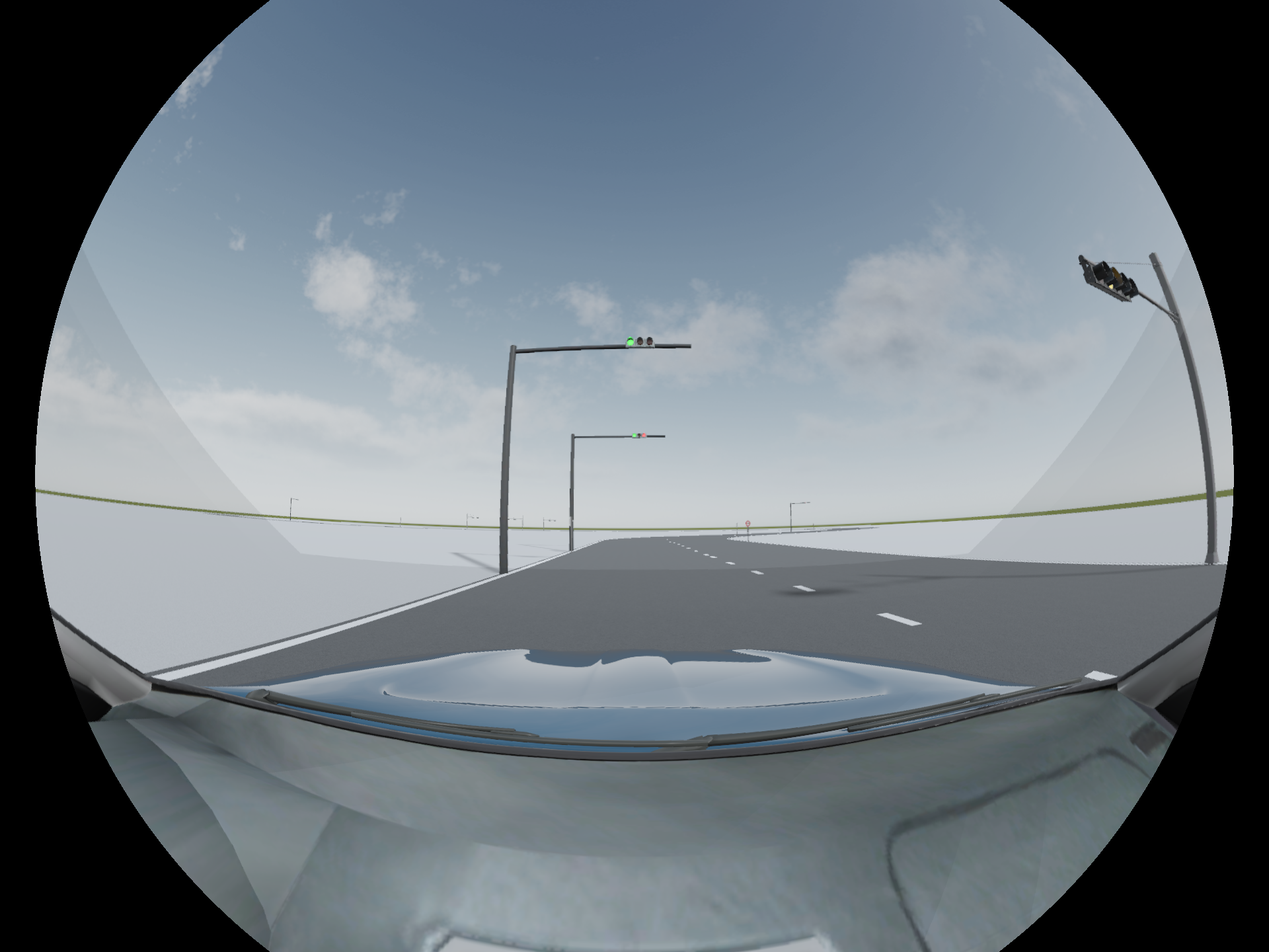Green Light: (626, 332, 656, 352)
